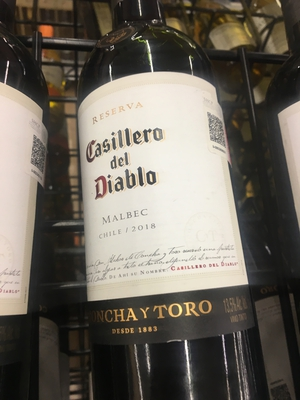casillero del diablo malbec: (67, 19, 254, 400)
